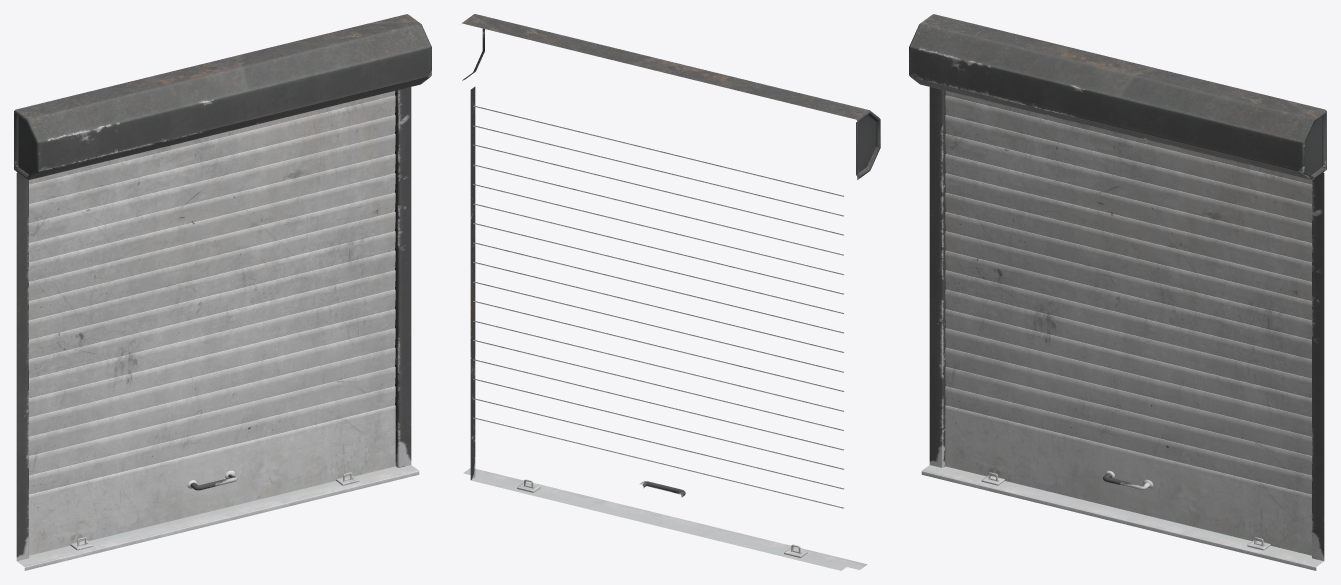
The model's file is SM_Roller_Door_01a.glb.
3 renders of one model, left to right at view 1: azimuth 30°, elevation 25°; view 2: azimuth 150°, elevation 25°; view 3: azimuth 330°, elevation 25°, orthographic.
Parts seen in each view (by area): view 1: SM_Roller_Door_01a; view 2: SM_Roller_Door_01a; view 3: SM_Roller_Door_01a.
Boxes of the visible parts, x1,y1,x2,y2 form: SM_Roller_Door_01a: [14, 14, 431, 570]; SM_Roller_Door_01a: [462, 14, 880, 570]; SM_Roller_Door_01a: [909, 14, 1326, 570].
Bounding box in the file's own units: 3.25 × 3.57 × 0.3787.
1 material, 1 textured.
